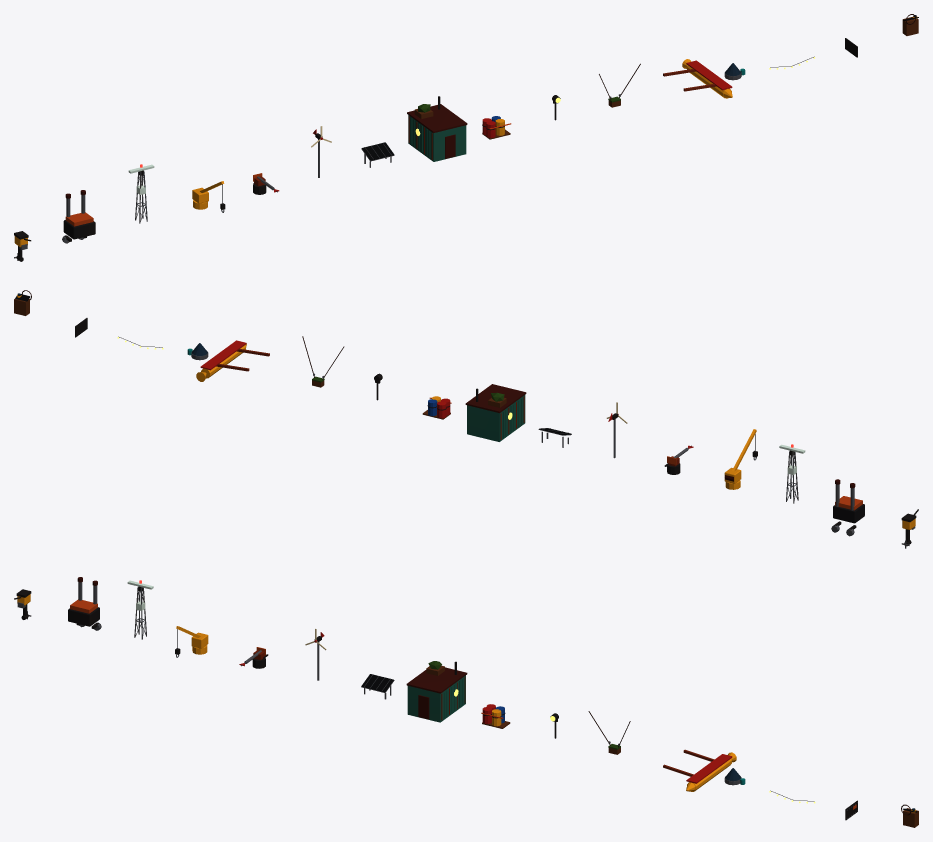
The model's file is tb_boat_kit.glb.
3 views of the same model, one above another, from view 1: azimuth 30°, elevation 25°; view 2: azimuth 150°, elevation 25°; view 3: azimuth 330°, elevation 25° (orthographic).
Visible parts, largest first — view 1: cabin_container, engine_twin, outrigger, radar_mast; view 2: cabin_container, engine_twin, outrigger, salvage_crane, radar_mast; view 3: cabin_container, outrigger, engine_twin, radar_mast.
Boxes of the visible parts, box(x1,y1,x2,y2) form: cabin_container: box(407, 96, 467, 161); engine_twin: box(62, 190, 95, 243); outrigger: box(663, 59, 732, 98); radar_mast: box(128, 164, 154, 223); cabin_container: box(465, 384, 526, 441); engine_twin: box(831, 479, 864, 536); outrigger: box(196, 340, 269, 381); salvage_crane: box(724, 429, 757, 489); radar_mast: box(779, 444, 805, 503); cabin_container: box(406, 661, 467, 722); outrigger: box(663, 749, 736, 791); engine_twin: box(68, 577, 101, 630); radar_mast: box(127, 580, 153, 639).
Bounding box in the file's own units: 60.69 × 4.57 × 5.42.
